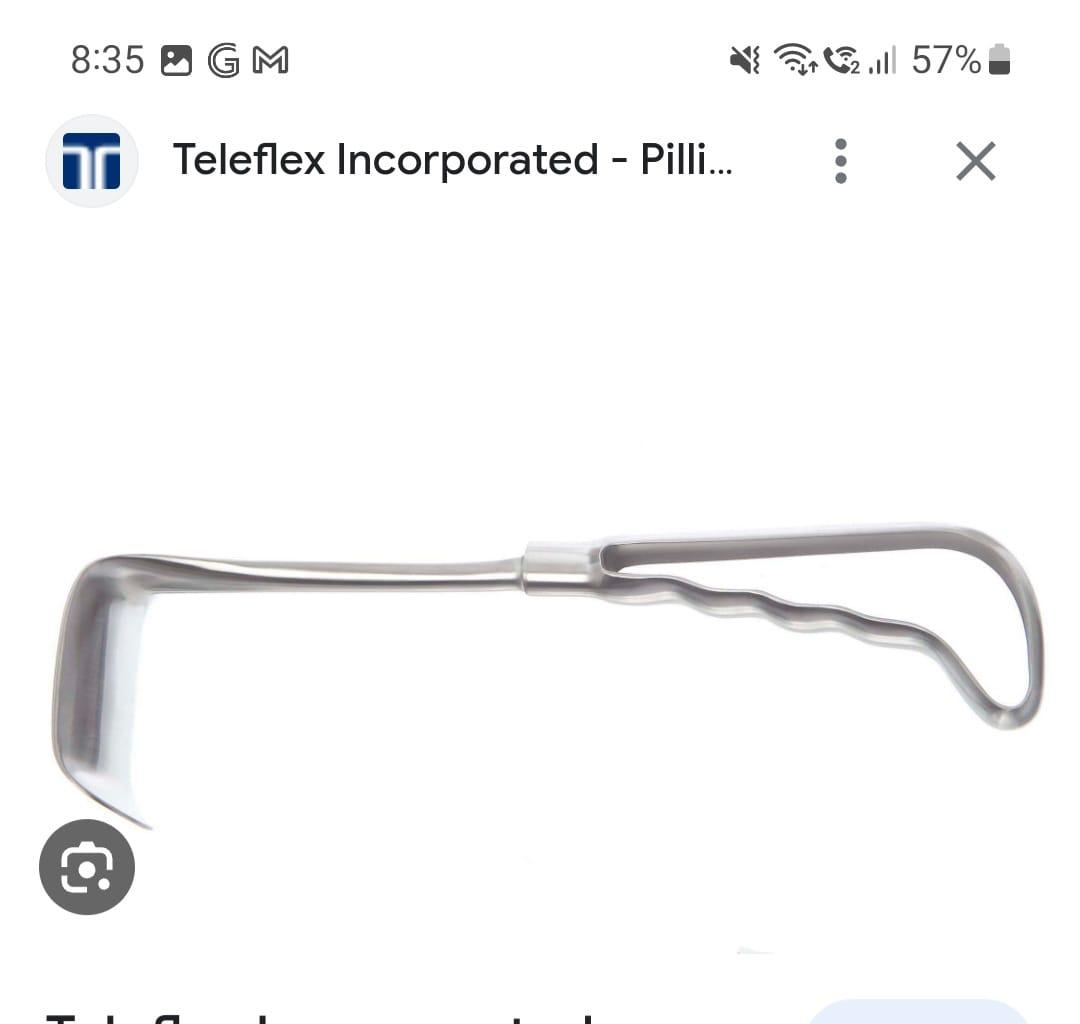Kelly Retractor: (44, 514, 1051, 834)
